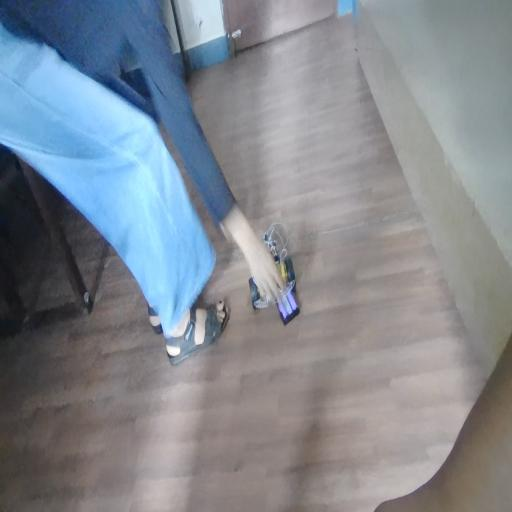car: (262, 233, 304, 311)
